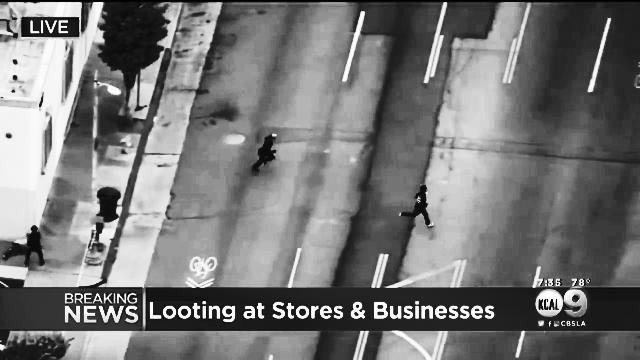berlari: (396, 180, 439, 231), (250, 128, 278, 178)
